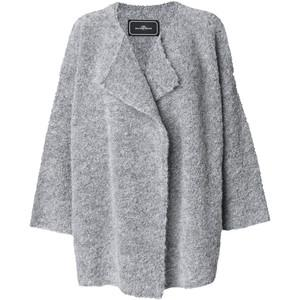S_cardigan sweater: (38, 6, 268, 300)
